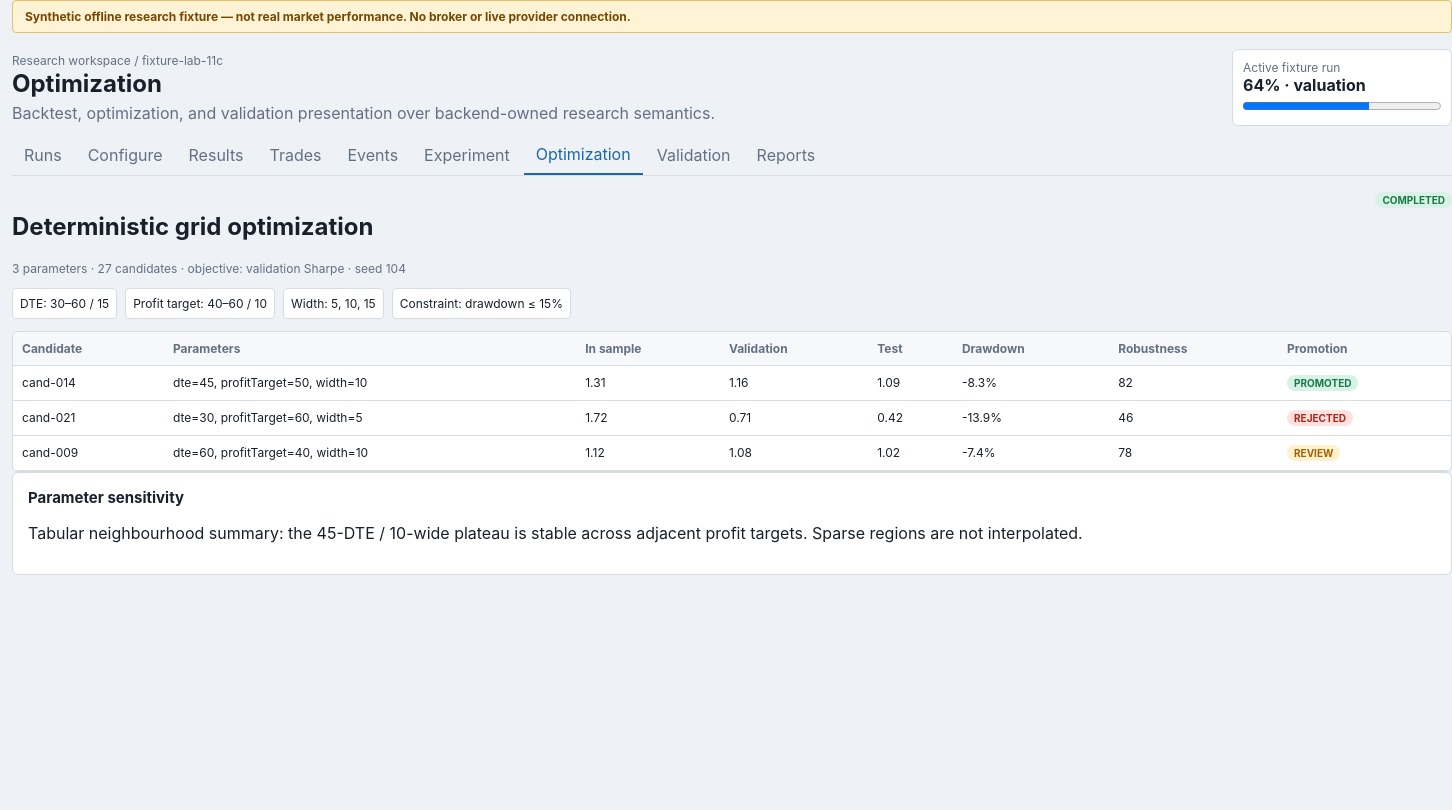
it: research workspace › renders accessible optimization and validation tables
Expected: the table named "Optimization candidates" is shown, [13,332,1451,471]
Click the button "validation": [694, 155] box [645,135,743,175]
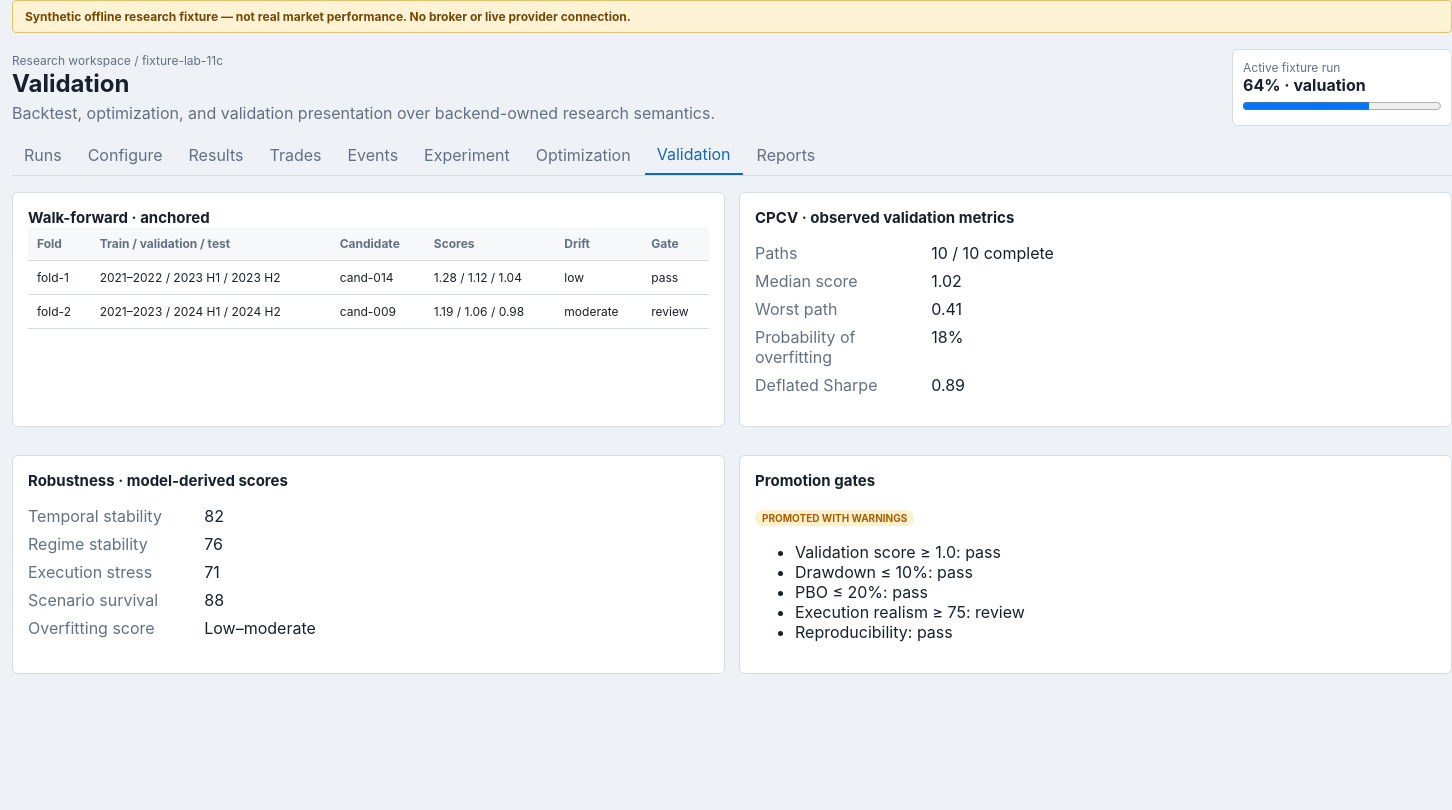
Expected: the table named "Walk-forward folds" is shown, [28,227,709,329]
Expected: the text "Probability of overfitting" is shown, [755,327,856,367]
